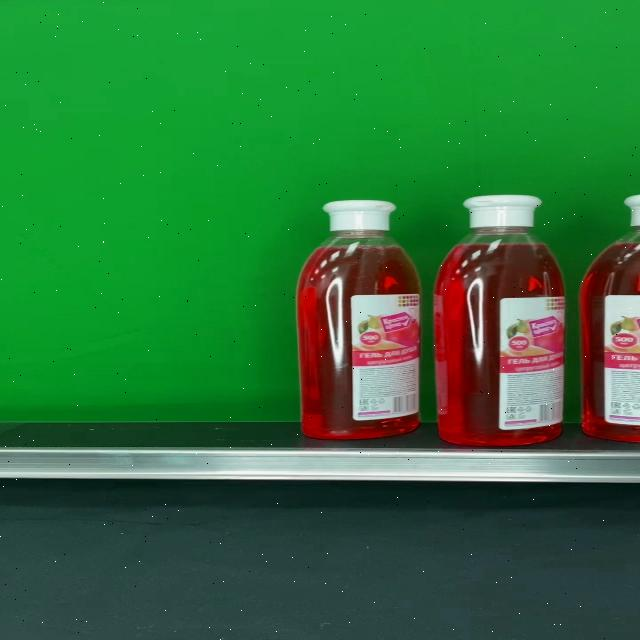Bottle: (435, 195, 566, 446), (297, 199, 422, 440)
Cap: (463, 195, 541, 227), (326, 200, 396, 232)
